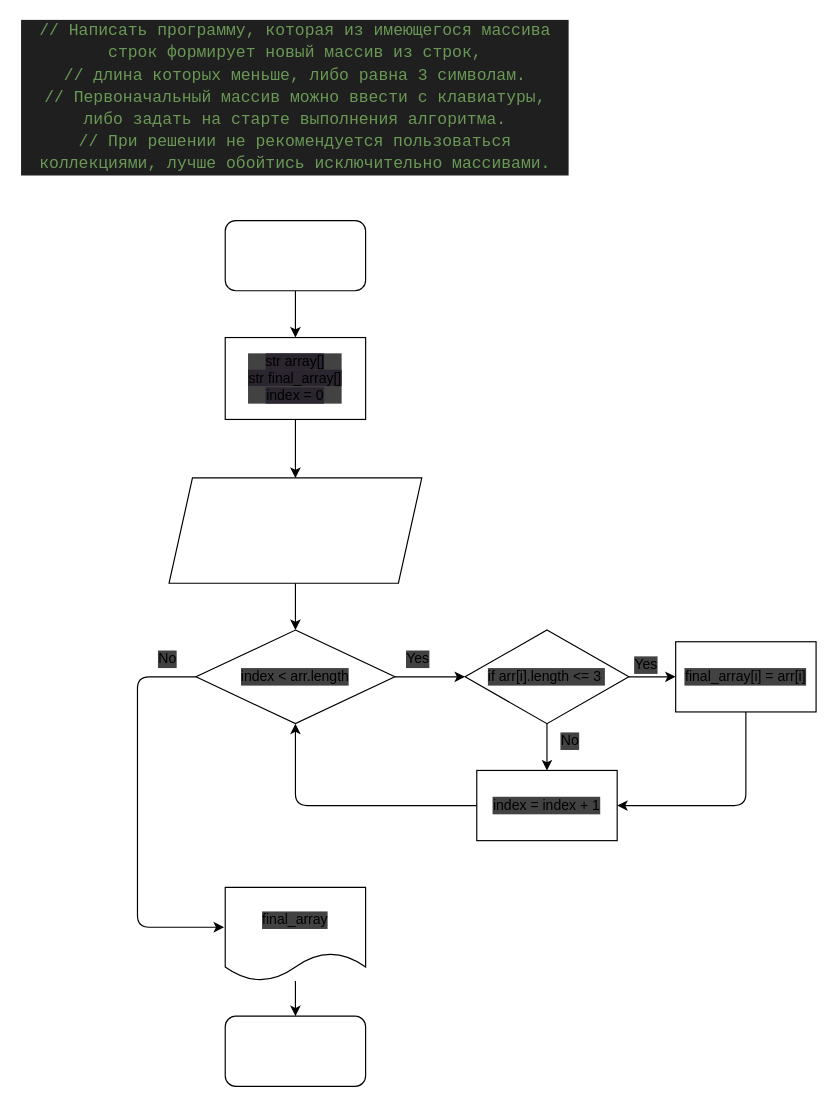
This 837x1107 diagram has some shape labels left out. Each missing label, with the centre of its shape:
arr[0] = a arr[1] = b arr[2] = c: [295,530]
end: [295,1050]
Start: [295,255]
